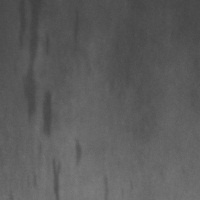inclusion: (15, 1, 42, 133), (37, 84, 62, 143), (65, 6, 89, 49), (47, 154, 67, 200), (67, 136, 86, 169), (98, 170, 115, 200)
